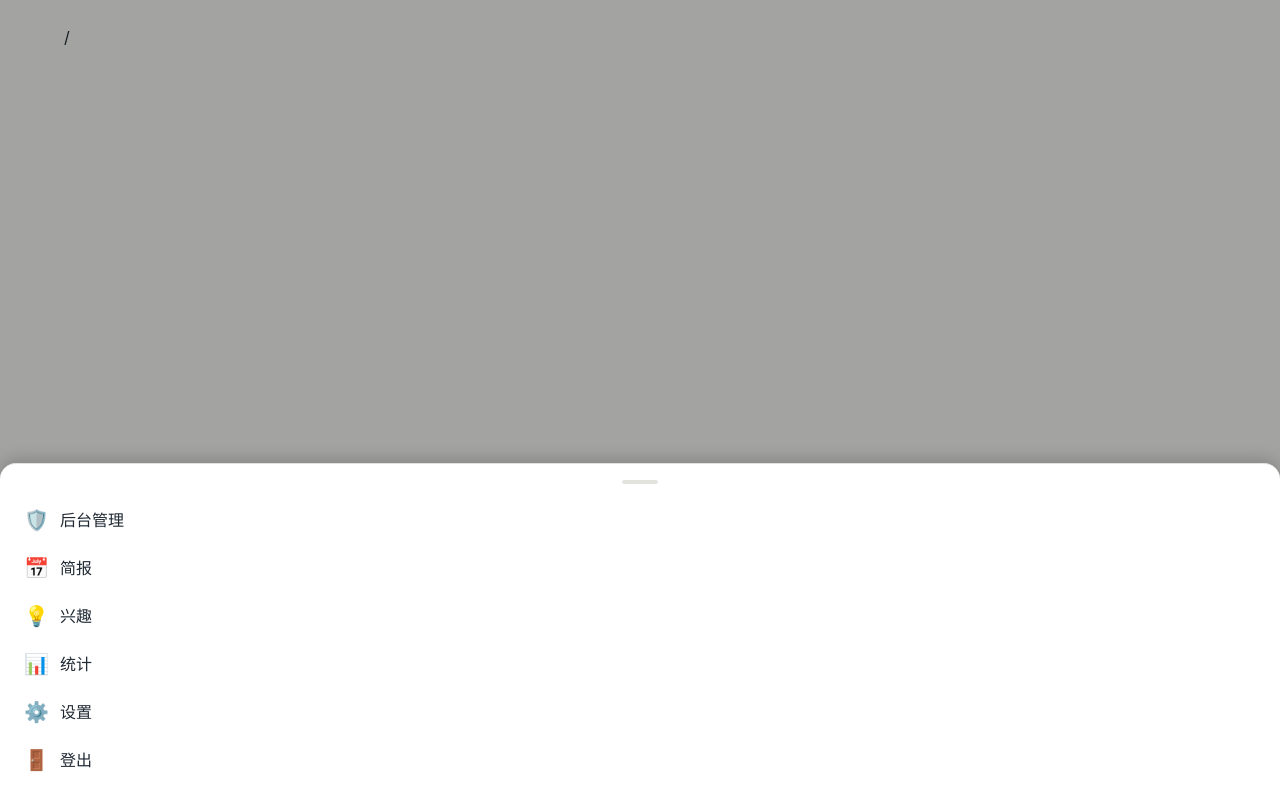
mobile admin entry navigates to the catalog
Click the button "🛡️ 后台管理". click: (92, 520)
box: 8,496 -> 1272,544
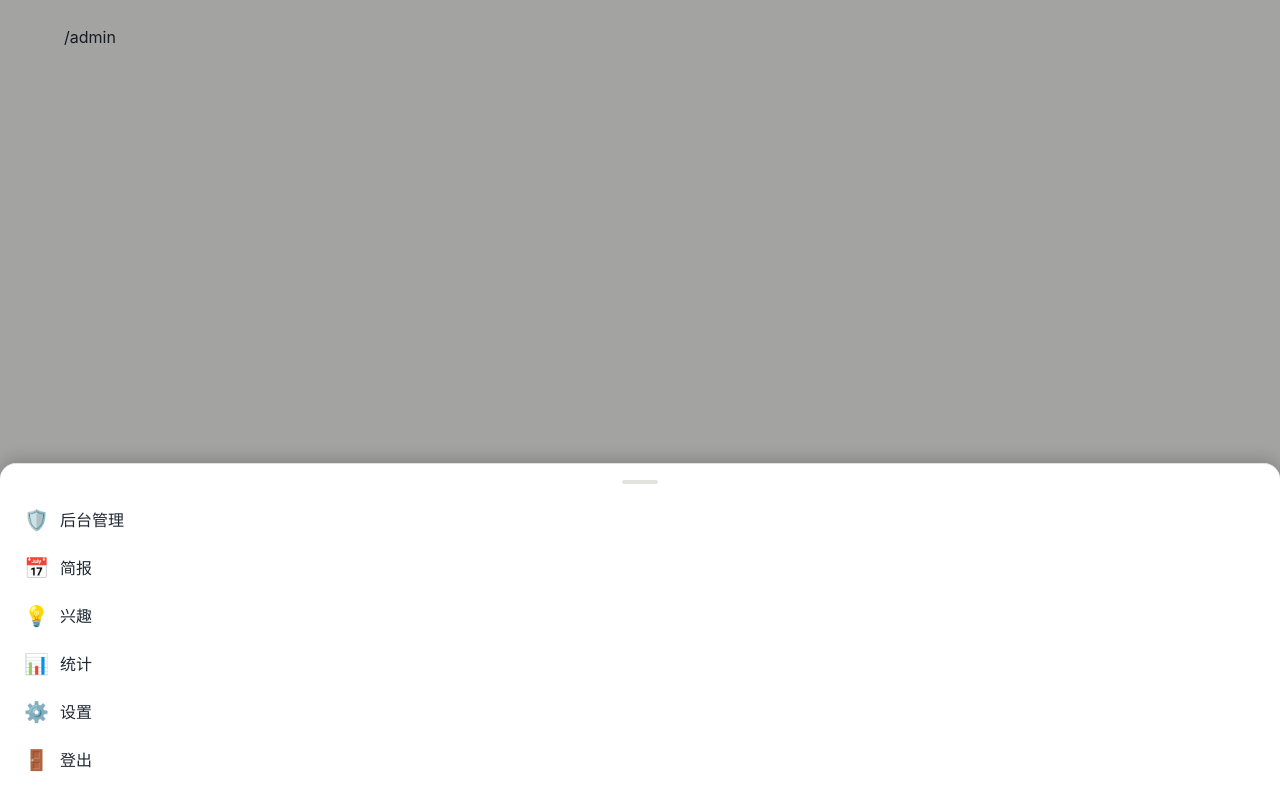
Check: the text "/admin" is shown, box 64,27 -> 116,47
